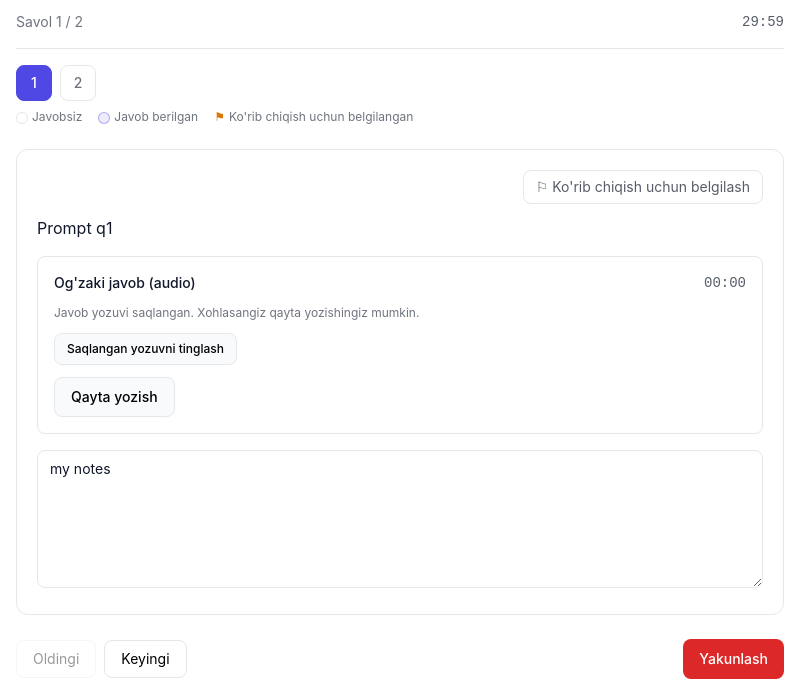
AttemptPage — Task 6 › shows the recorder only for Speaking questions and keeps the text field
Check: the text "Prompt q1" is shown, box x1=37 y1=218 x2=112 y2=238
Check: the element with test id "speaking-recorder" is shown, box x1=37 y1=256 x2=763 y2=434
What coordinates should you click on to do the following:
click the button "2"
I would click on:
 (78, 83)
Its box is x1=60 y1=65 x2=96 y2=101.
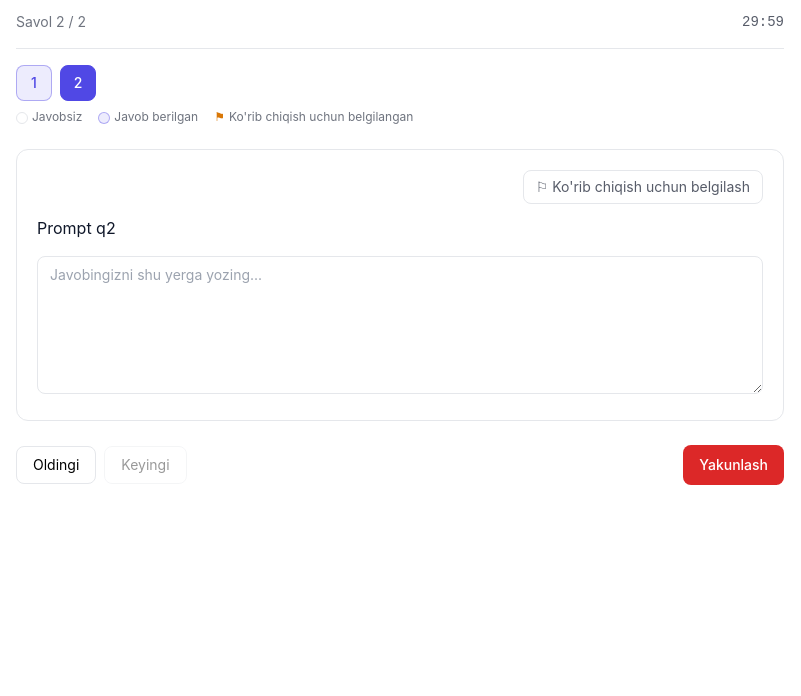
Check: the element with test id "speaking-recorder" is gone
